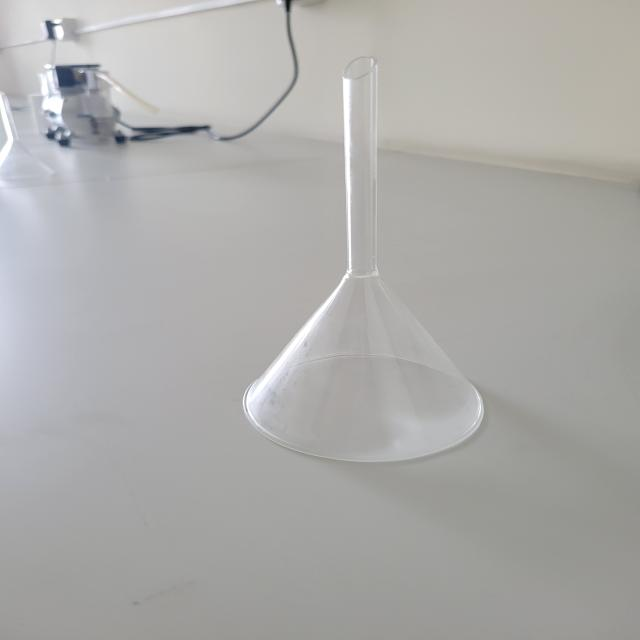Funnel: (222, 27, 518, 530)
